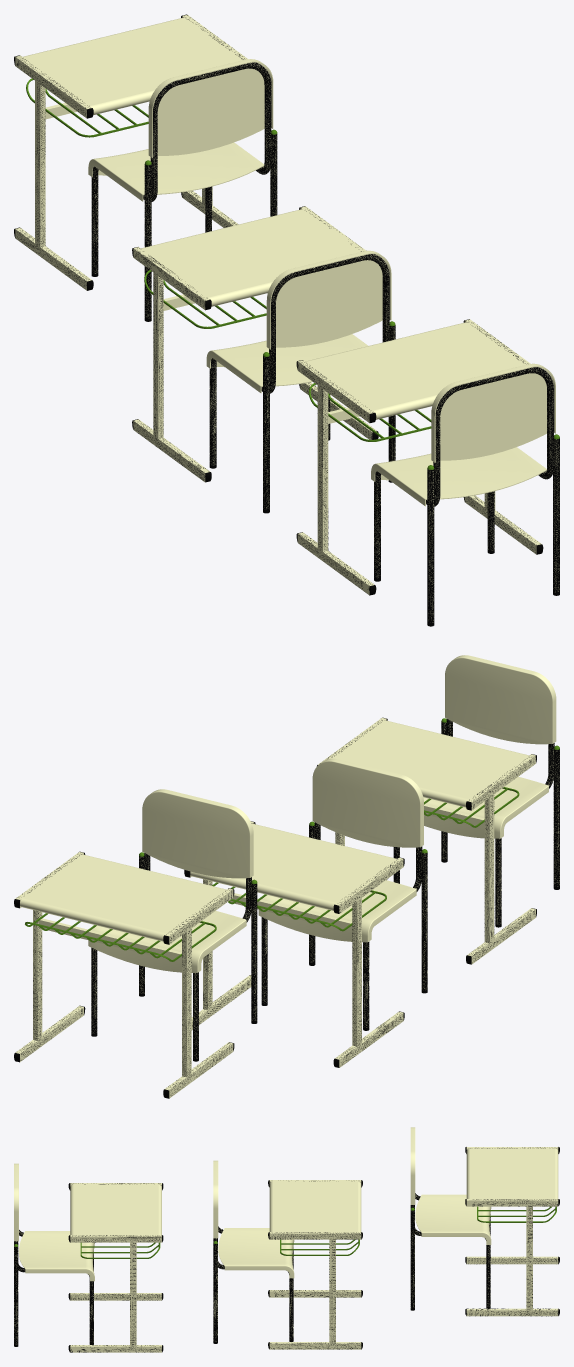
Rendered from Agrupar_2.dae.
3 views of the same model, one above another, from view 1: azimuth 30°, elevation 25°; view 2: azimuth 150°, elevation 25°; view 3: azimuth 270°, elevation 25° (orthographic). The views are drawn at different scales.
Visible parts, largest first — view 1: group_5 (×3), group_2 (×3), group_15 (×6), group_1 (×3), group_3 (×3), group_6 (×3); view 2: group_5 (×3), group_2 (×3), group_15 (×7), group_3 (×3), group_1 (×3), group_6 (×3); view 3: group_5 (×3), group_15 (×6), group_3 (×3), group_1 (×3), group_6 (×3), group_2 (×3).
Part boxes in pixels (x1,y1,x2,y2): group_5 (×3): [23, 17, 524, 419]; group_2 (×3): [148, 59, 555, 462]; group_15 (×6): [15, 14, 541, 595]; group_1 (×3): [91, 62, 559, 623]; group_3 (×3): [88, 142, 546, 506]; group_6 (×3): [26, 78, 431, 441]; group_5 (×3): [20, 720, 528, 941]; group_2 (×3): [142, 655, 556, 878]; group_15 (×7): [15, 754, 535, 1098]; group_3 (×3): [88, 776, 548, 972]; group_1 (×3): [91, 719, 559, 1058]; group_6 (×3): [25, 787, 519, 961]; group_5 (×3): [70, 1148, 558, 1234]; group_15 (×6): [70, 1147, 558, 1352]; group_3 (×3): [18, 1194, 491, 1281]; group_1 (×3): [14, 1193, 490, 1344]; group_6 (×3): [80, 1206, 556, 1258]; group_2 (×3): [14, 1127, 415, 1241].
Size of the model in its own units: 33.17 by 118 by 46.47.
